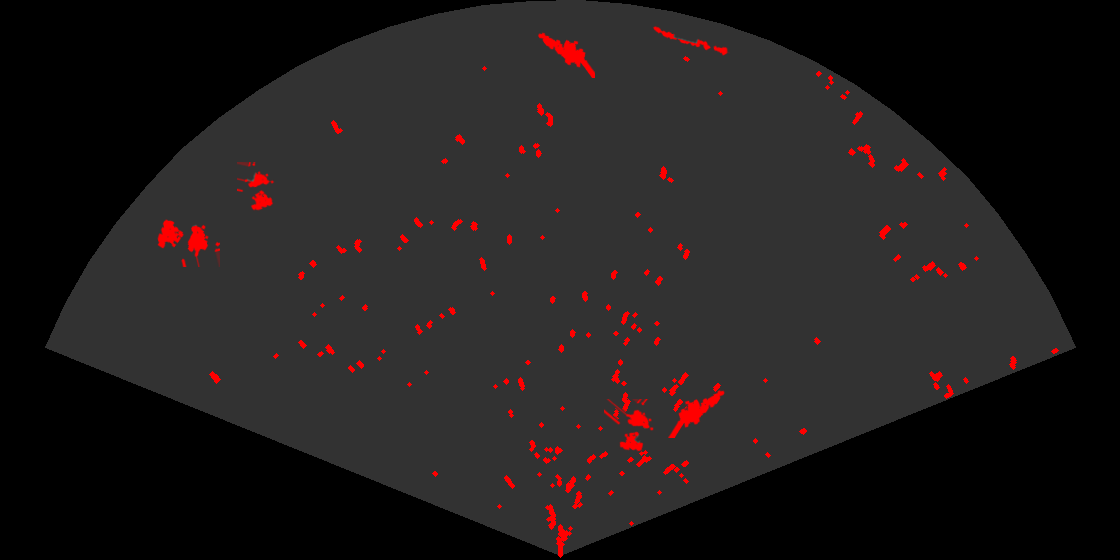cage: (156, 218, 220, 267), (604, 399, 655, 453), (237, 162, 276, 212)
chain: (651, 25, 730, 57)
frogman: (668, 388, 726, 438), (536, 31, 595, 78)
